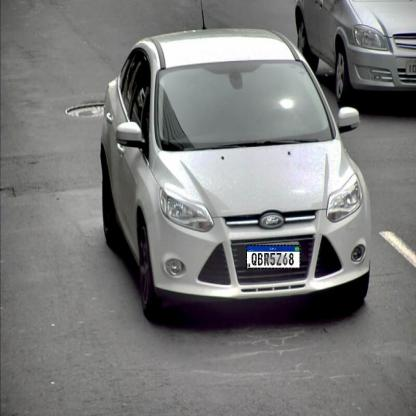PlacaM: (246, 245, 301, 269)
